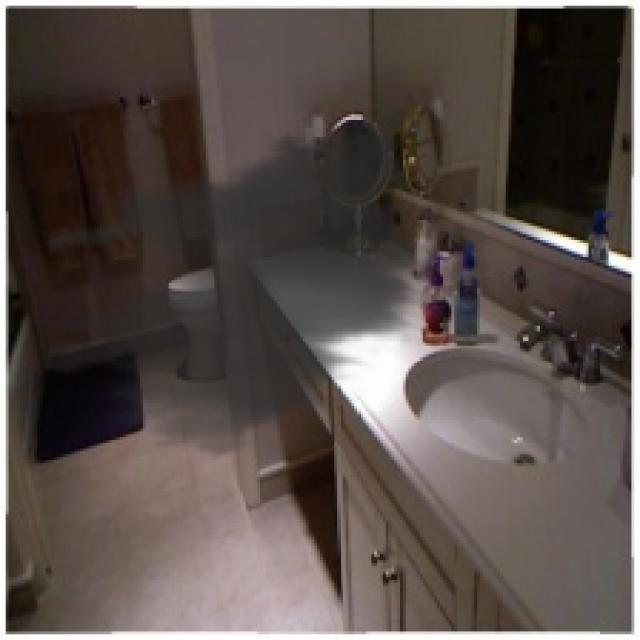Smoke: (48, 109, 440, 468)
